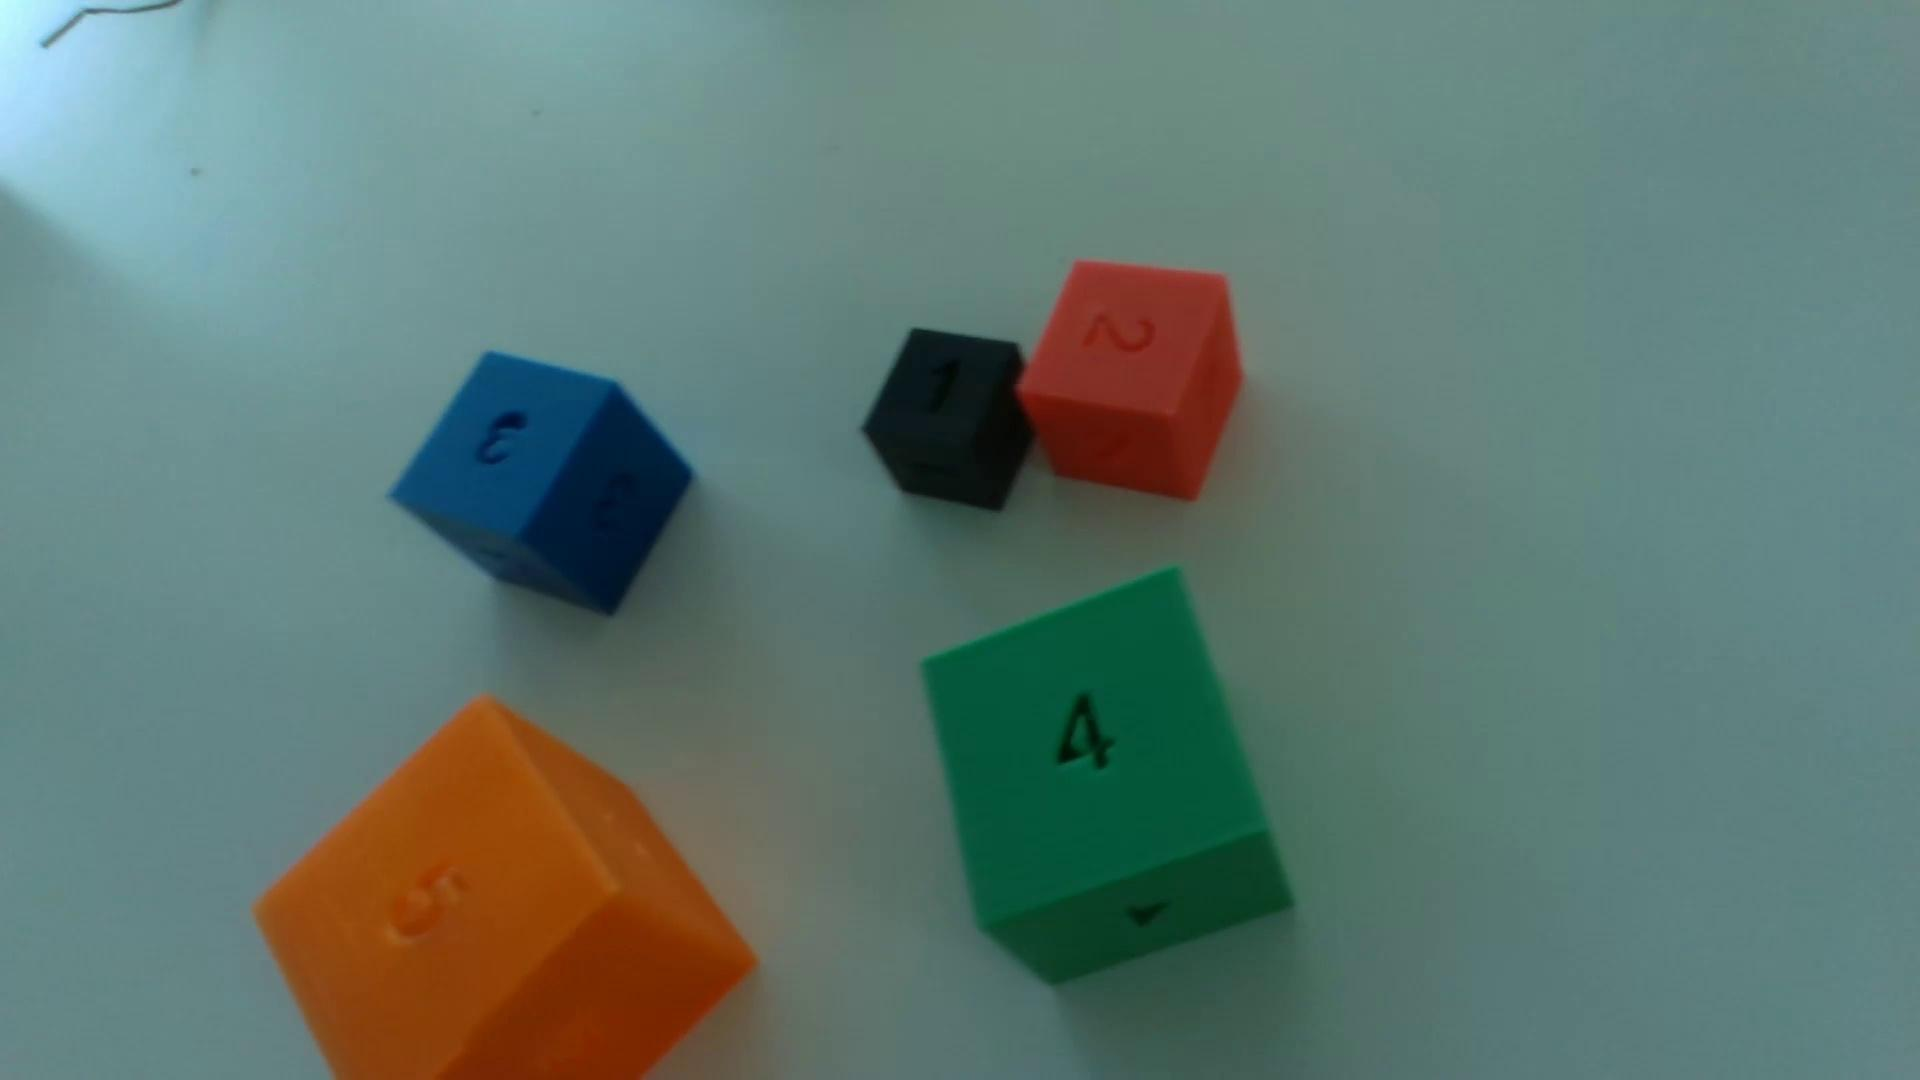black: (862, 328, 1033, 512)
blue: (392, 353, 692, 615)
green: (924, 570, 1292, 984)
orange: (255, 698, 756, 1080)
red: (1021, 262, 1244, 501)
